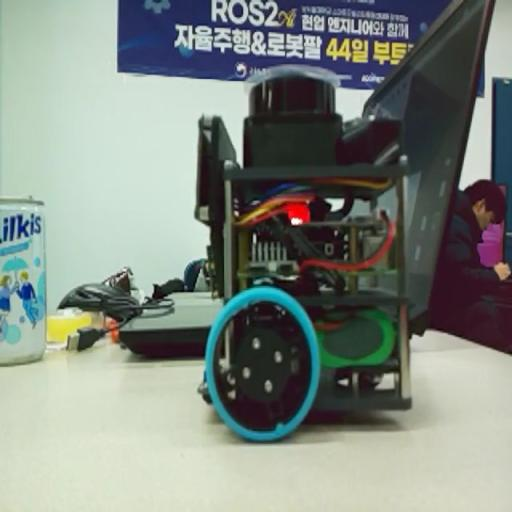pinky_63: (192, 69, 417, 447)
